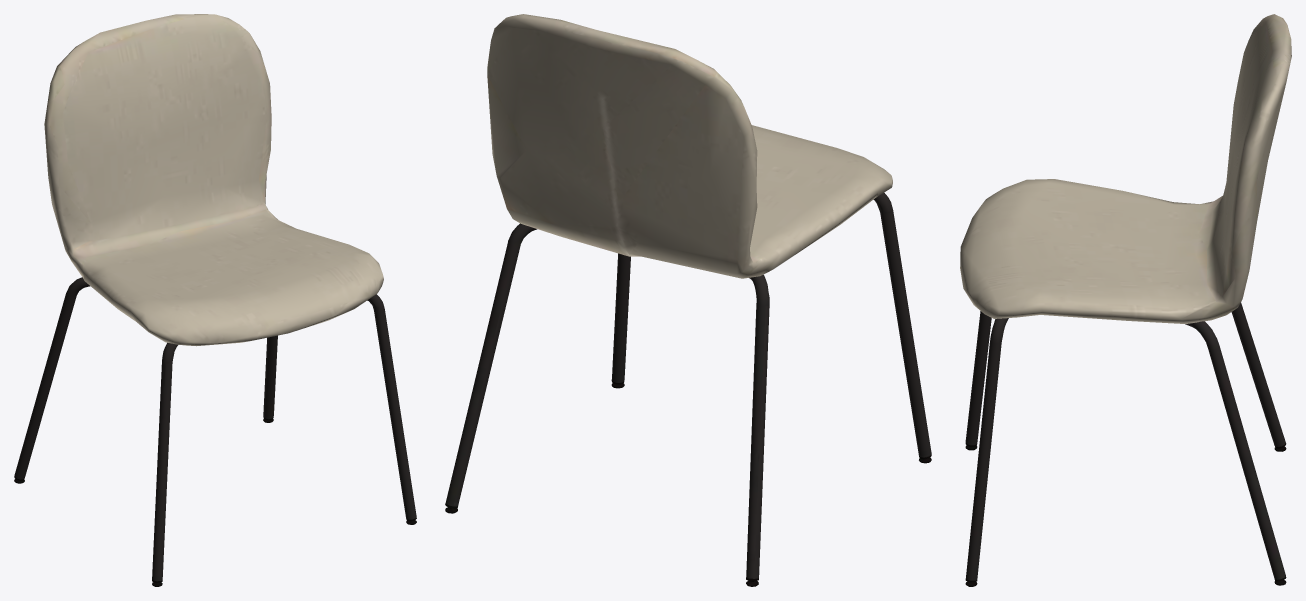
Rendered from 31 - SKÅLSTA - 餐椅, Knäbäck米色管狀金屬黑灰色 IKEA 線上購物.glb.
3 views of the same model, side by side, from view 1: azimuth 30°, elevation 25°; view 2: azimuth 150°, elevation 25°; view 3: azimuth 270°, elevation 25° (orthographic). The views are drawn at different scales.
Visible parts, largest first — view 1: 09608739_09608739_fr; view 2: 09608739_09608739_fr; view 3: 09608739_09608739_fr.
Boxes of the visible parts, x1,y1,x2,y2 form: 09608739_09608739_fr: (14, 14, 416, 586); 09608739_09608739_fr: (445, 14, 931, 586); 09608739_09608739_fr: (960, 14, 1291, 586).
Bounding box in the file's own units: 0.5165 × 0.8036 × 0.5117.
Materials: 2 (2 with a texture image).
